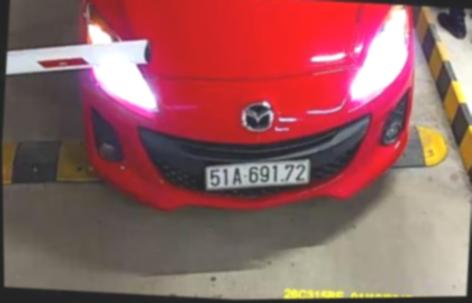License_Plate: (200, 150, 326, 197)
